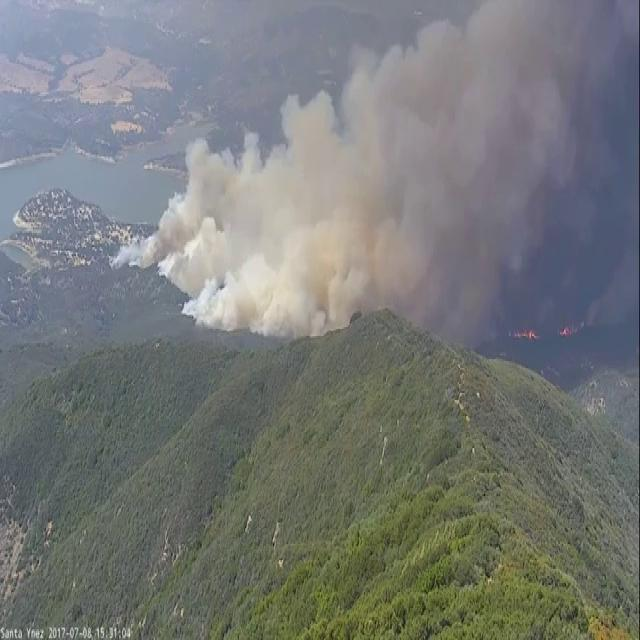Fire: (557, 319, 574, 342), (514, 326, 538, 342)
Smoke: (155, 222, 218, 298), (250, 278, 330, 336), (138, 201, 188, 270), (331, 264, 374, 333), (198, 275, 258, 324), (180, 276, 220, 316), (108, 236, 140, 274)
